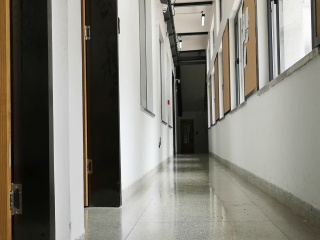room: (1, 4, 61, 240), (79, 1, 127, 204)
